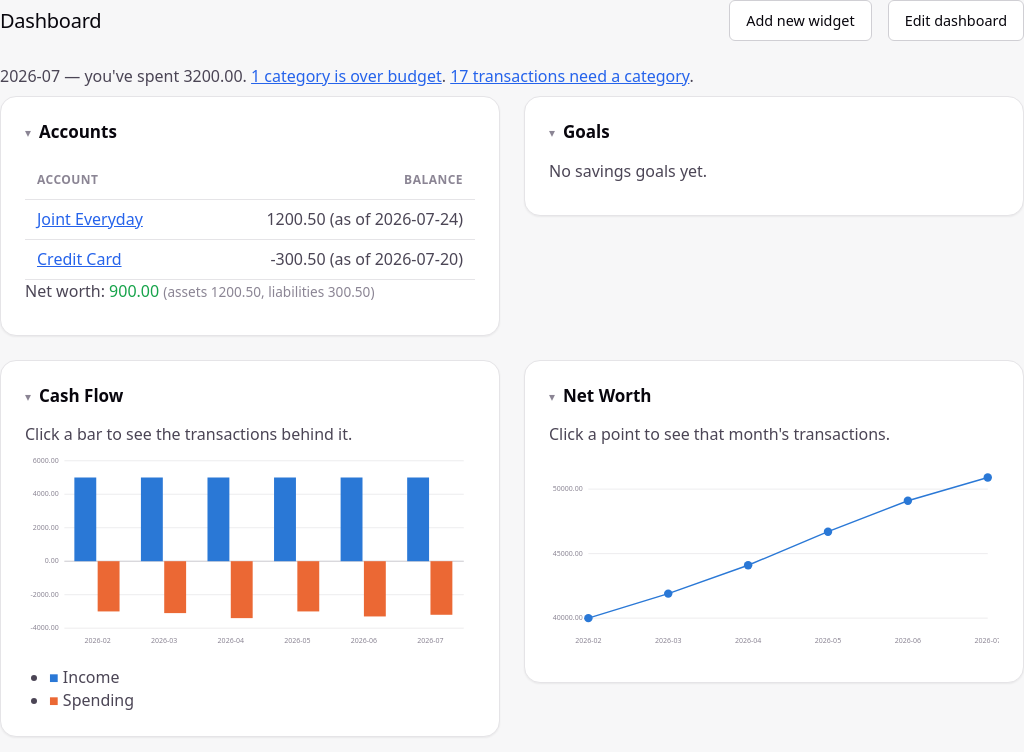
it: DashboardPage › Adding a widget › closes the form and refreshes the layout after adding
Check: the heading "▾ Accounts" is shown, box [25,121,475,144]
Step 1. Click the button "Add new widget" → (800, 21), box [729,0,872,41]
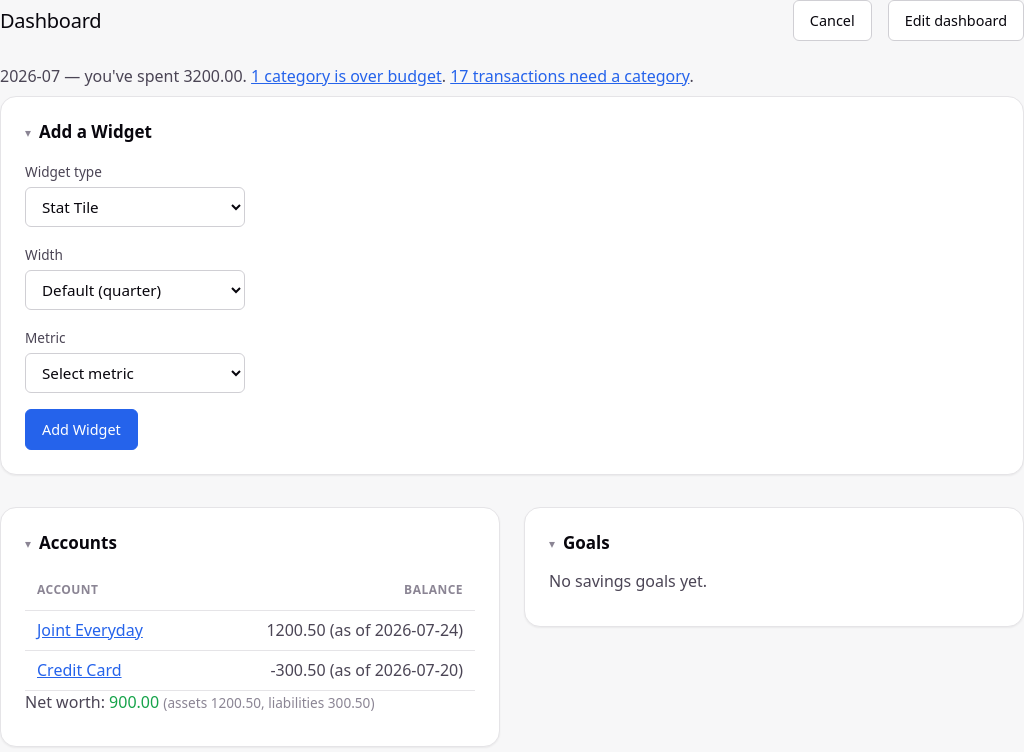
Step 2. Select "Recent Activity" in the dropdown labelled "Widget type" → (135, 207), box [25,187,245,227]
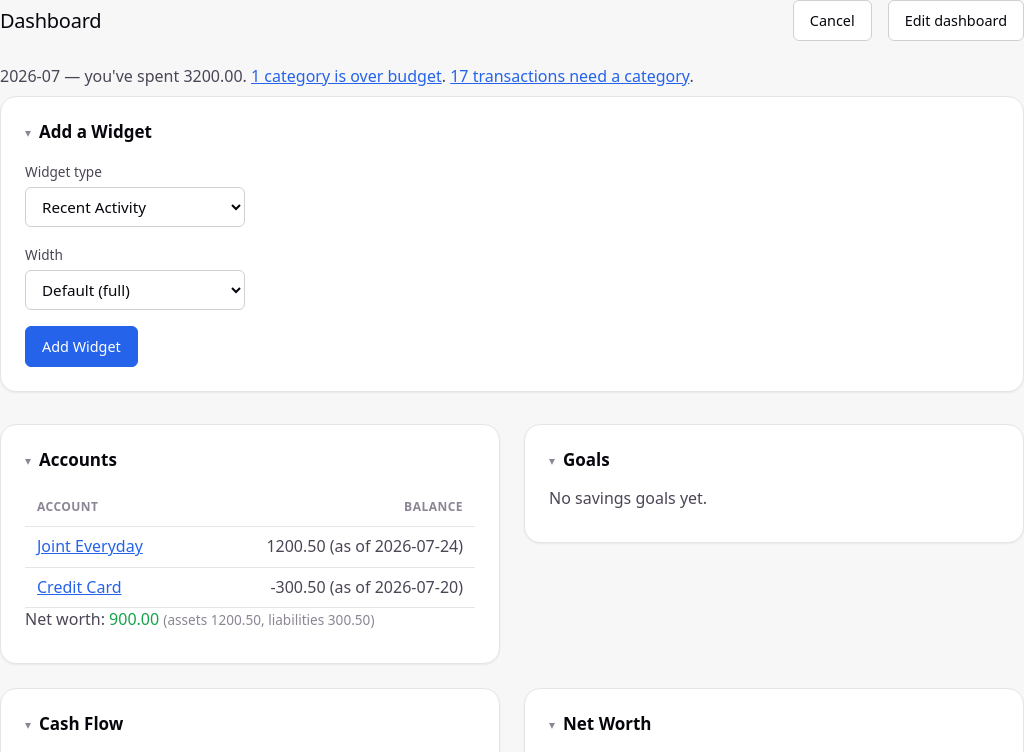
Step 3. Click the button "Add Widget" → (81, 346), box [25,326,138,367]
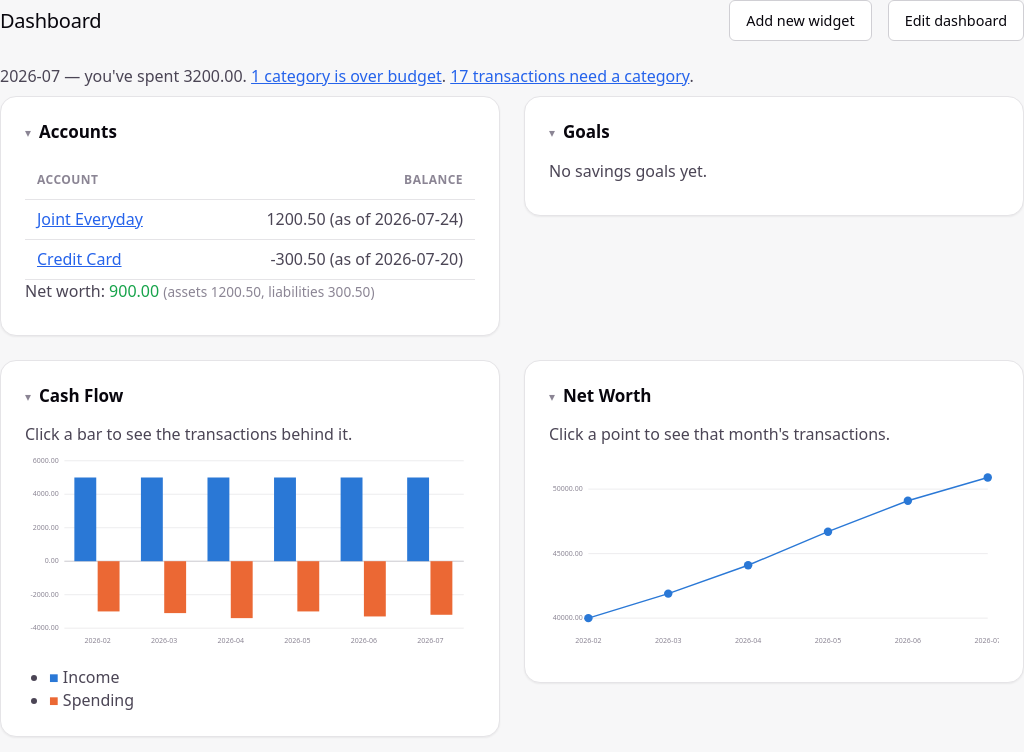
Check: the button "Add a Widget" is gone
